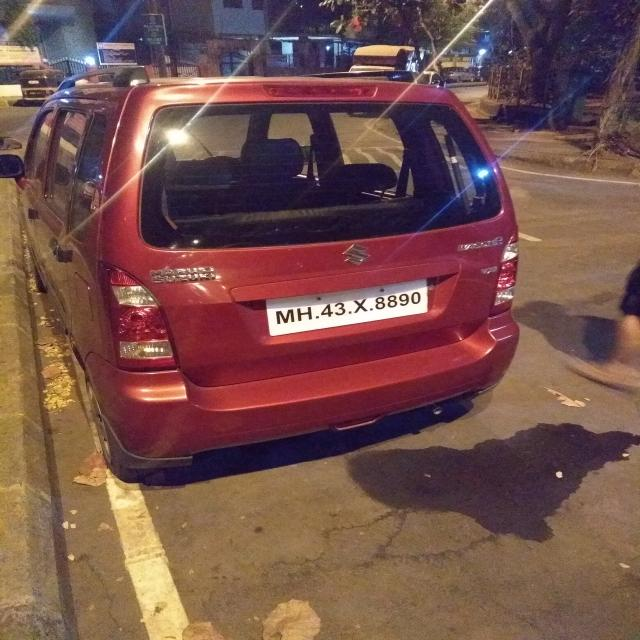Number-Plate: (272, 287, 430, 337)
